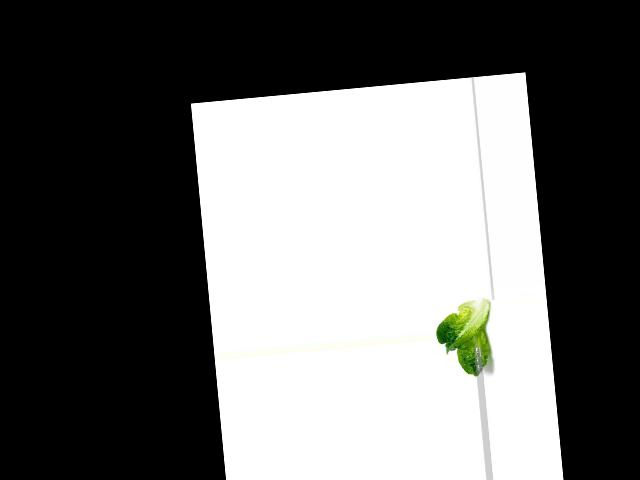lettuce: (433, 296, 493, 381)
